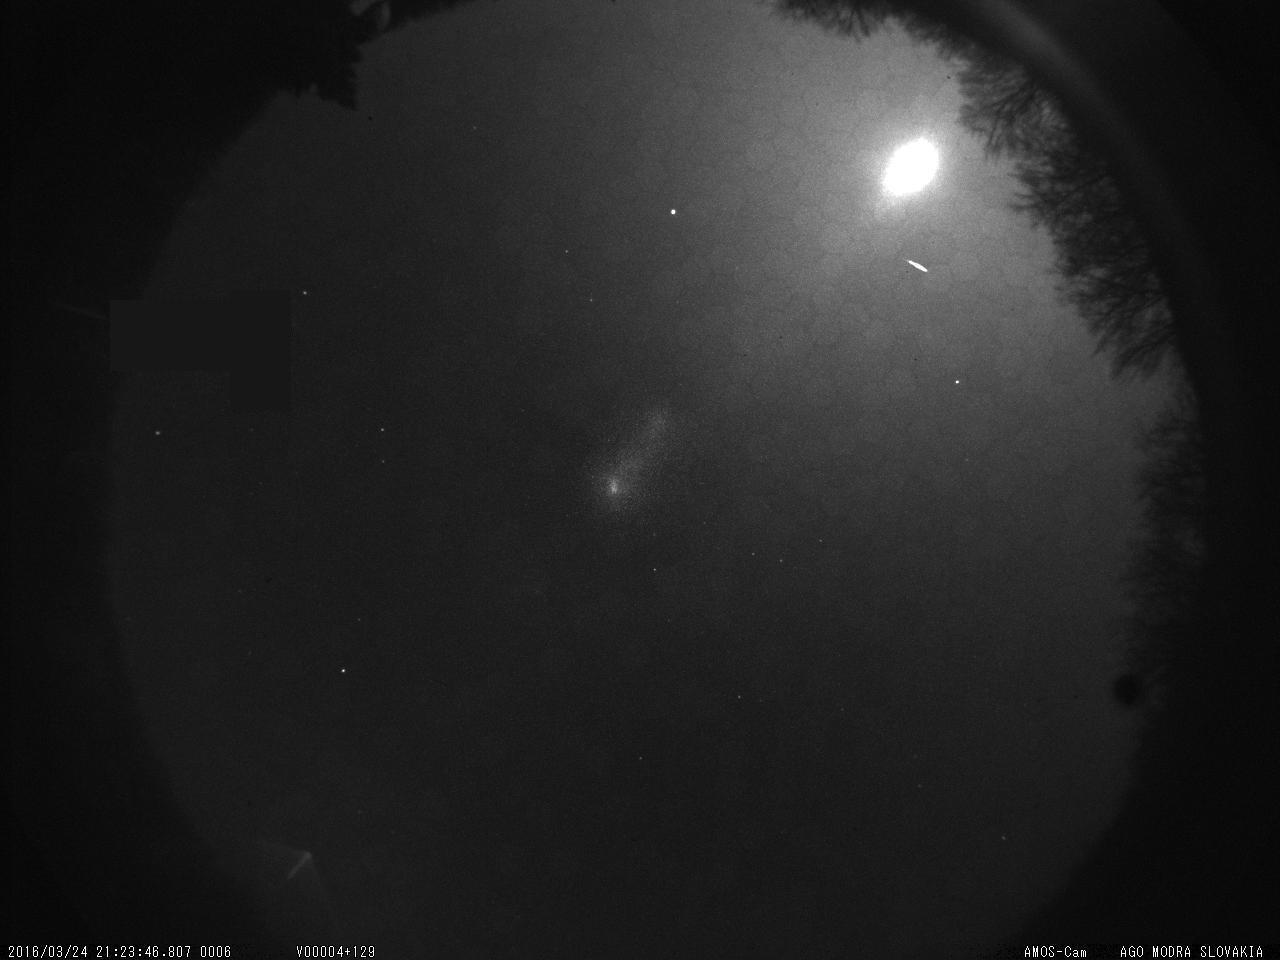meteor: (902, 254, 940, 277)
